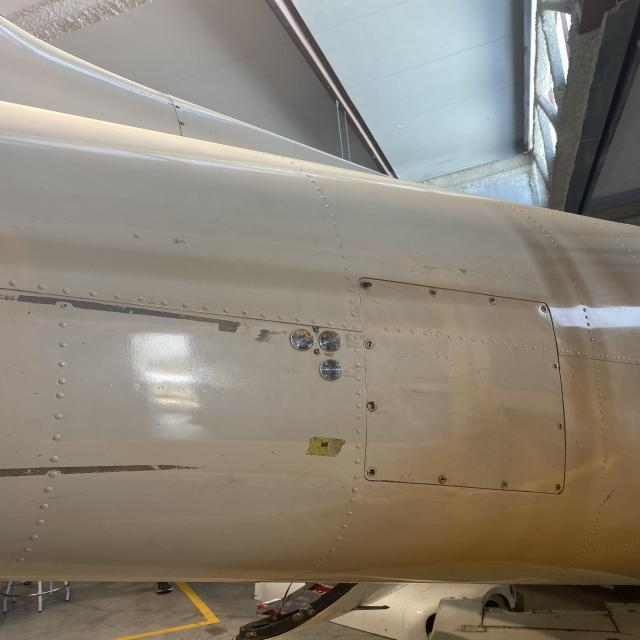Fastener Damage: (175, 105, 180, 110)
